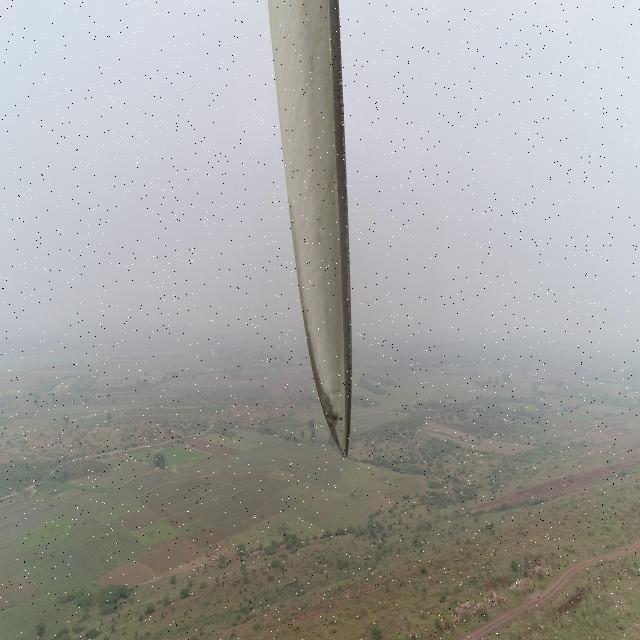Dirt: (265, 0, 354, 456)
Pin Hole: (323, 410, 347, 428)
